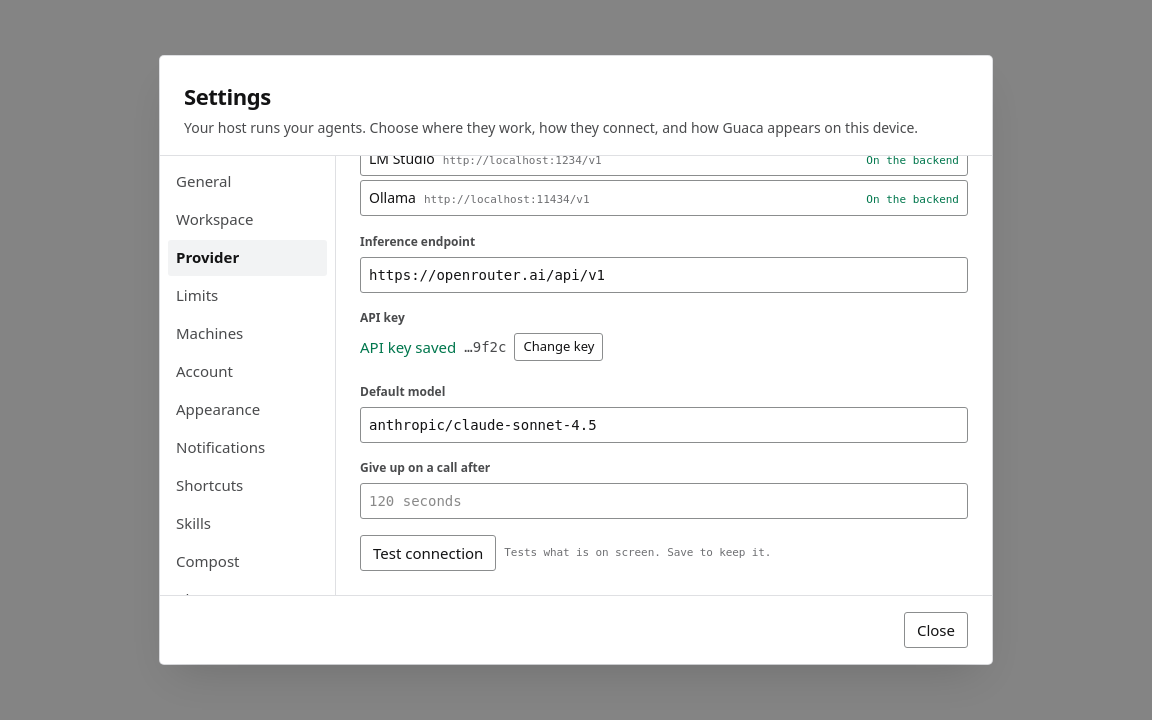
Test: when the runtime refuses › reports a refused endpoint without touching what is stored
(page scrolled)
What coordinates should you click on to do the following:
click the button "Test connection"
I would click on:
 (428, 553)
Its box is [360, 535, 496, 571].
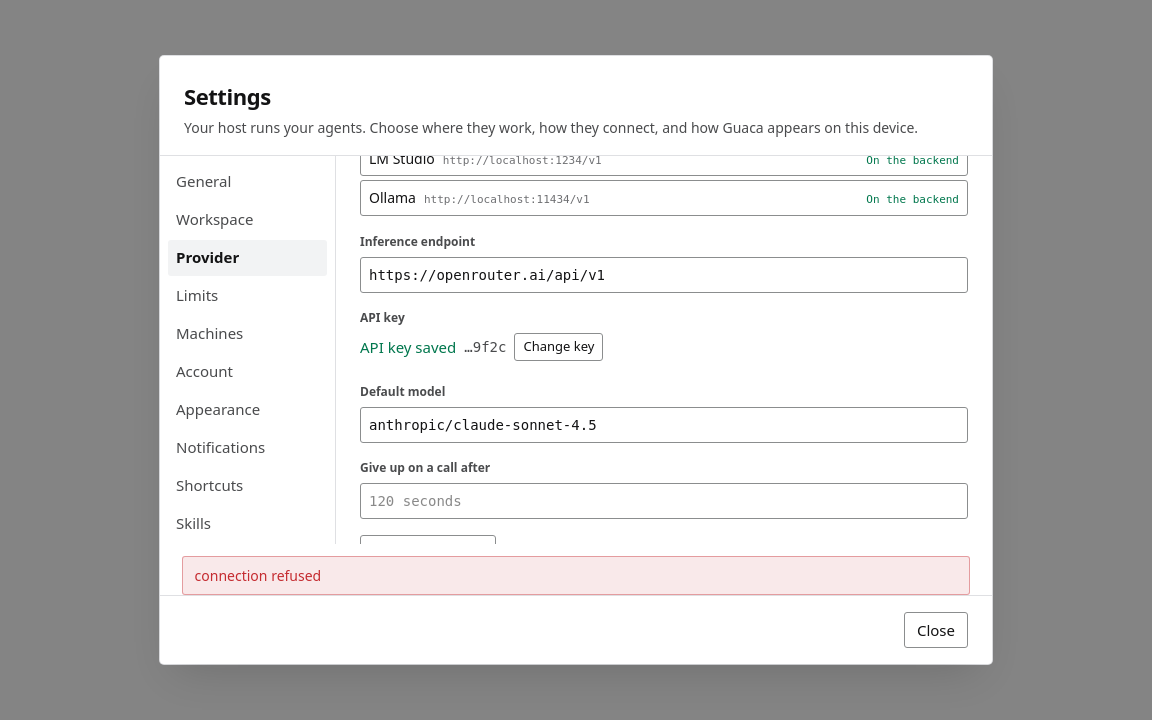
Now the text "connection refused" is shown, box [195, 565, 321, 586]
